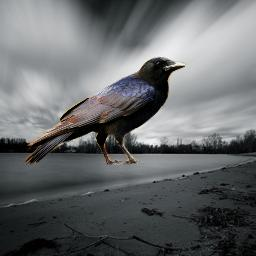Crow: (23, 55, 186, 165)
